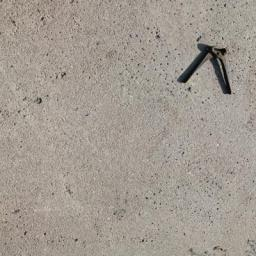FOD: (181, 43, 235, 100)
